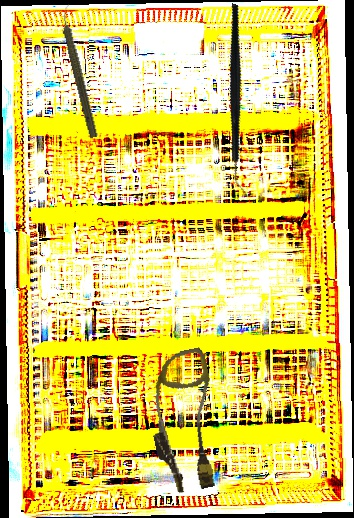Cannula: (137, 346, 232, 497)
Chopper: (173, 3, 306, 193)
Handpiece: (54, 3, 104, 139)
